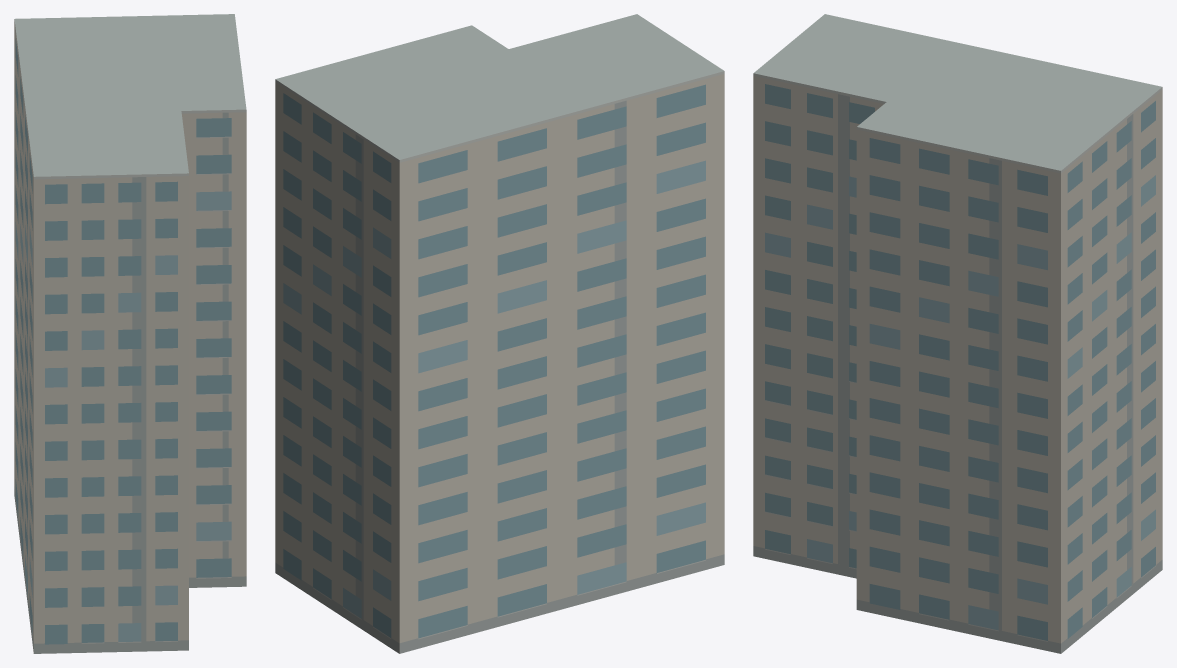
The model's file is residential-776b3ef9-c8ed-4626-86b1-a176280a1f0a.glb.
The picture shows the model from 3 angles, left to right: view 1: azimuth 30°, elevation 25°; view 2: azimuth 150°, elevation 25°; view 3: azimuth 270°, elevation 25°; orthographic projection. The views are drawn at different scales.
Visible parts, largest first — view 1: residential-776b3ef9-c8ed-4626-86b1-a176280a1f0a.tmp; view 2: residential-776b3ef9-c8ed-4626-86b1-a176280a1f0a.tmp; view 3: residential-776b3ef9-c8ed-4626-86b1-a176280a1f0a.tmp.
Boxes of the visible parts, x1,y1,x2,y2 form: residential-776b3ef9-c8ed-4626-86b1-a176280a1f0a.tmp: (14, 14, 246, 653); residential-776b3ef9-c8ed-4626-86b1-a176280a1f0a.tmp: (275, 14, 724, 653); residential-776b3ef9-c8ed-4626-86b1-a176280a1f0a.tmp: (753, 14, 1162, 653).
Size of the model in its own units: 31.36 by 45 by 34.55.
